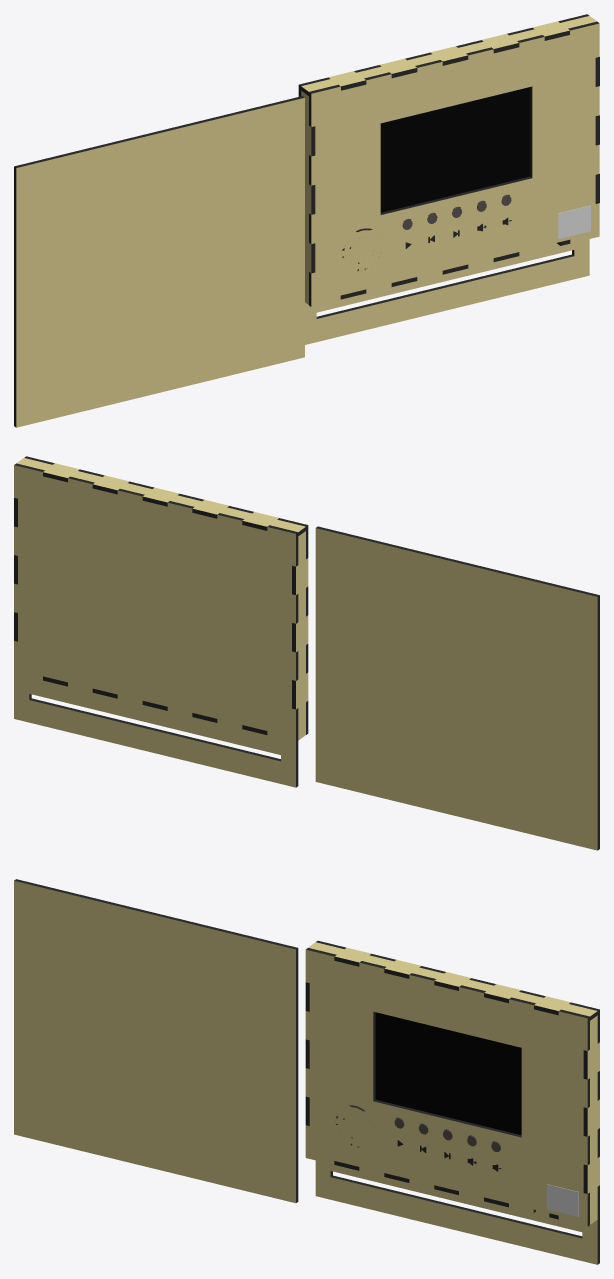
The model's file is galzza.glb.
3 views of the same model, one above another, from view 1: azimuth 30°, elevation 25°; view 2: azimuth 150°, elevation 25°; view 3: azimuth 330°, elevation 25° (orthographic). The views are drawn at different scales.
Visible parts, largest first — view 1: cover-fanera, front5inch-fanera, screen, back-fanera, tside-fanera, front5inch-nagar, cover-nagar, back-nagar, lside-fanera, logo, tside-nagar, bside-nagar; view 2: cover-fanera, back-fanera, tside-fanera, lside-fanera, back-nagar, cover-nagar, front5inch-nagar, tside-nagar, bside-nagar; view 3: cover-fanera, front5inch-fanera, screen, back-fanera, tside-fanera, rside-fanera, back-nagar, front5inch-nagar, cover-nagar, logo, tside-nagar, bside-nagar.
Part boxes in pixels (x1,y1,x2,y2): cover-fanera: (16,97,304,427); front5inch-fanera: (311,23,599,306); screen: (380,87,529,212); back-fanera: (305,239,589,344); tside-fanera: (301,16,597,91); front5inch-nagar: (309,21,599,306); cover-nagar: (14,96,304,427); back-nagar: (298,14,589,318); lside-fanera: (301,91,311,304); logo: (558,205,590,238); tside-nagar: (301,21,596,95); bside-nagar: (340,239,570,299); cover-fanera: (315,528,597,850); back-fanera: (14,465,295,787); tside-fanera: (16,458,305,532); lside-fanera: (296,531,308,740); back-nagar: (14,463,298,787); cover-nagar: (316,526,599,850); front5inch-nagar: (24,456,308,734); tside-nagar: (43,469,305,535); bside-nagar: (43,676,267,734); cover-fanera: (14,881,295,1203); front5inch-fanera: (305,949,587,1226); screen: (375,1012,521,1135); back-fanera: (315,1160,597,1264); tside-fanera: (308,942,597,1016); rside-fanera: (587,1015,599,1224); back-nagar: (316,940,599,1264); front5inch-nagar: (306,948,589,1226); cover-nagar: (14,879,298,1202); logo: (546,1184,578,1216); tside-nagar: (309,948,597,1020); bside-nagar: (334,1161,558,1219).
Bounding box in the file's own units: 63.34 × 26.93 × 2.67.
